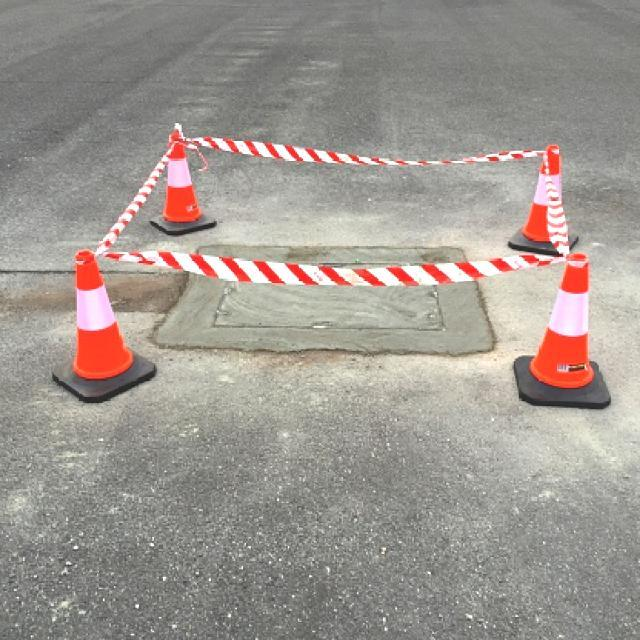traffic cone: (51, 249, 156, 402), (513, 253, 611, 409), (507, 149, 576, 257), (149, 134, 217, 236), (538, 145, 578, 256)
